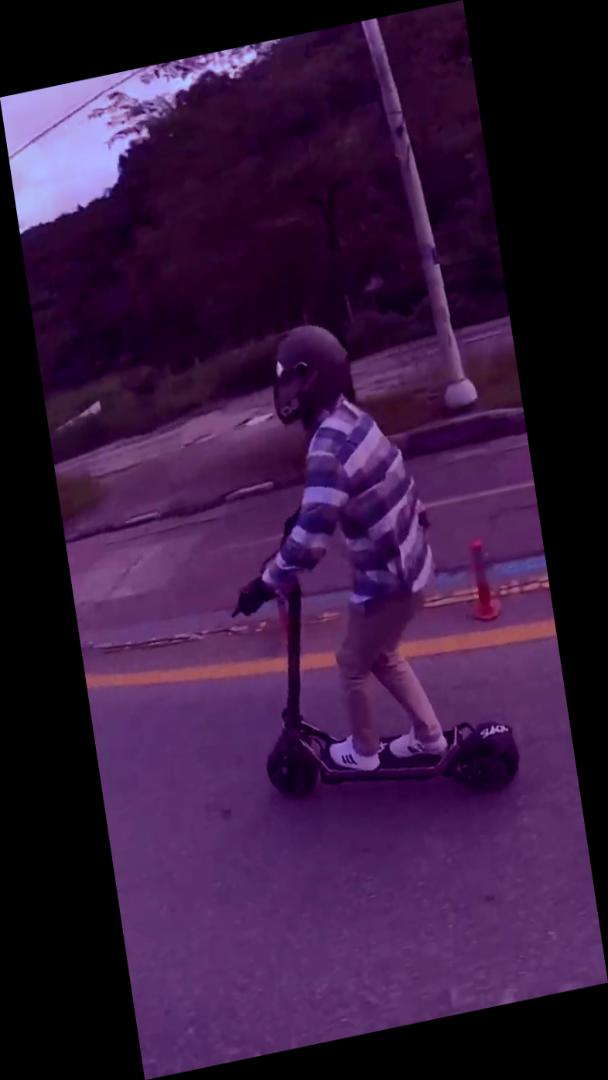helmet: (190, 290, 527, 844)
